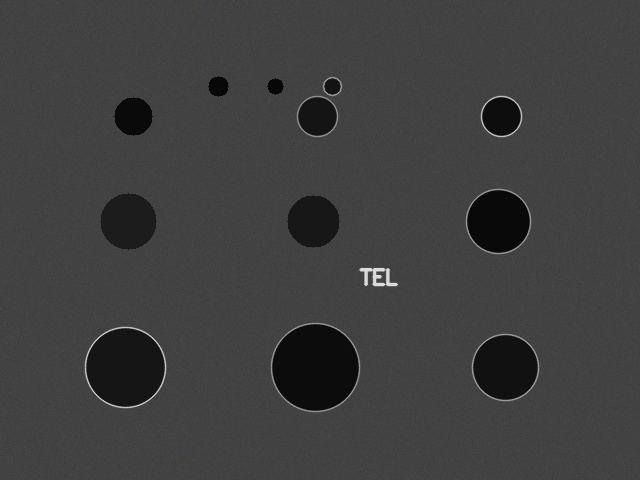hole: (271, 323, 359, 411), (85, 327, 165, 407), (472, 334, 538, 400), (466, 189, 530, 253), (100, 193, 156, 249), (287, 195, 339, 247), (297, 96, 337, 136), (481, 96, 521, 136), (114, 97, 152, 135), (208, 76, 228, 96), (323, 77, 341, 95), (267, 78, 283, 94)
